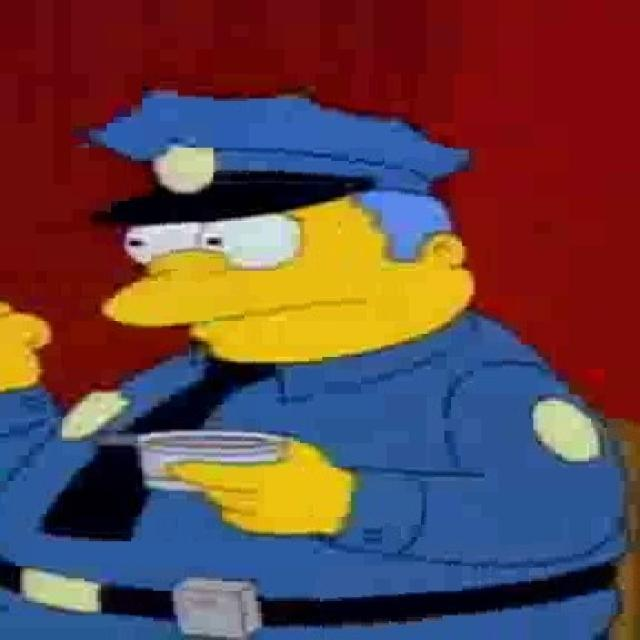Chief Wiggam: (76, 84, 484, 368)
